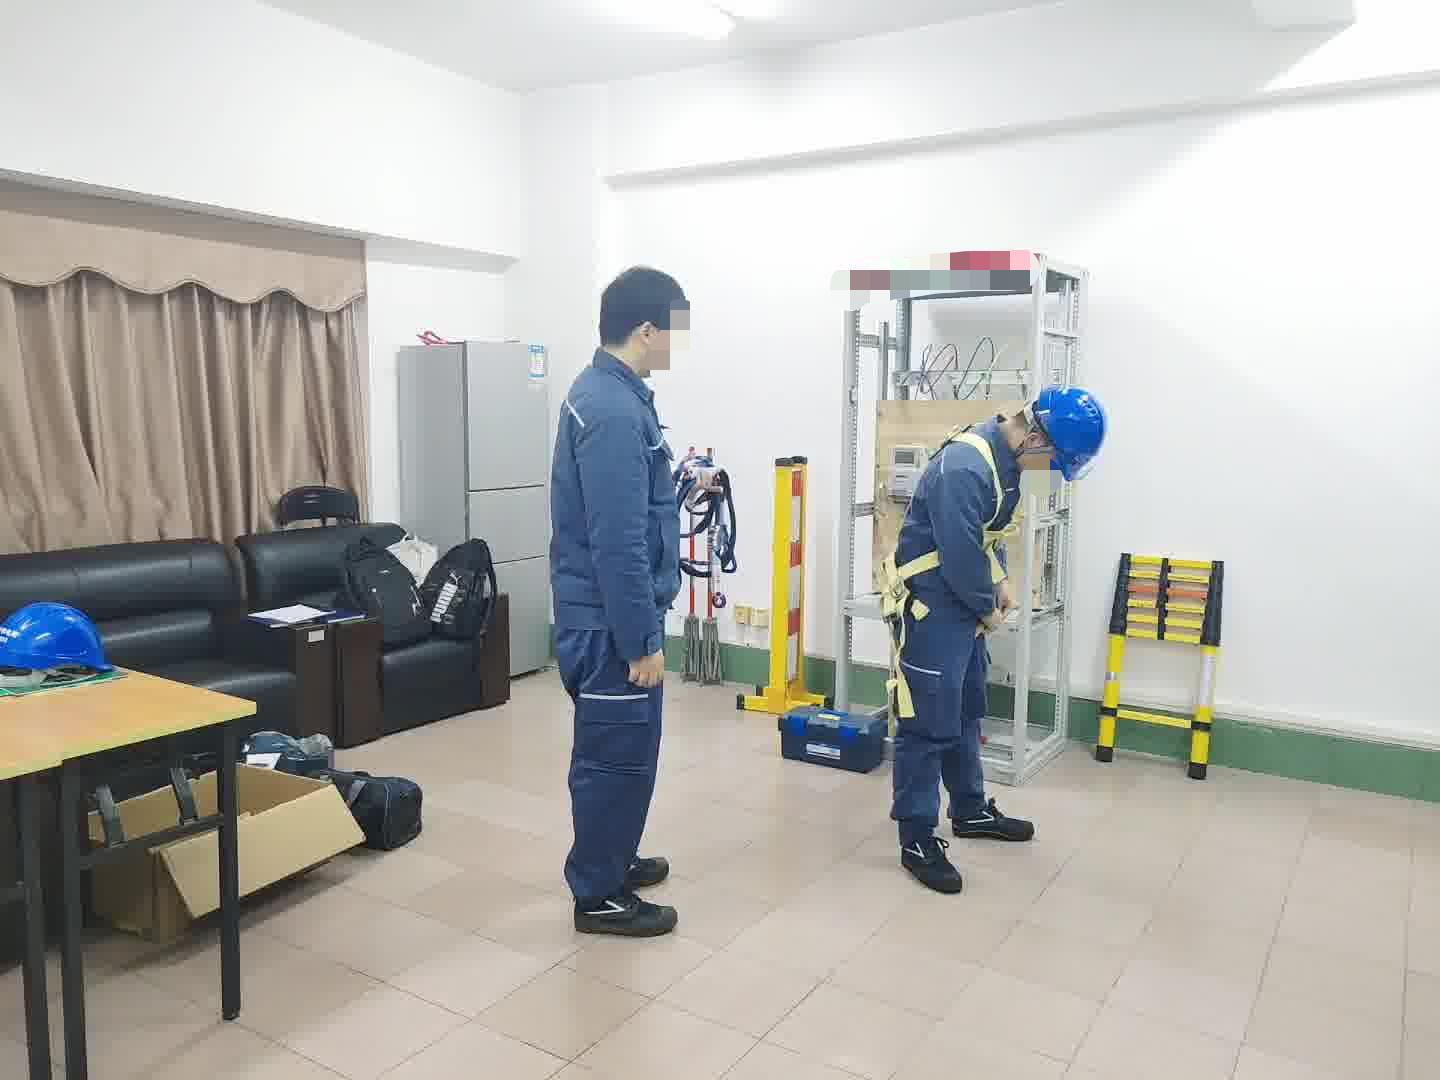halt: (1031, 387, 1111, 486)
inear: (1017, 427, 1054, 467)
noear: (629, 318, 664, 362)
unhalt: (595, 270, 694, 376)
